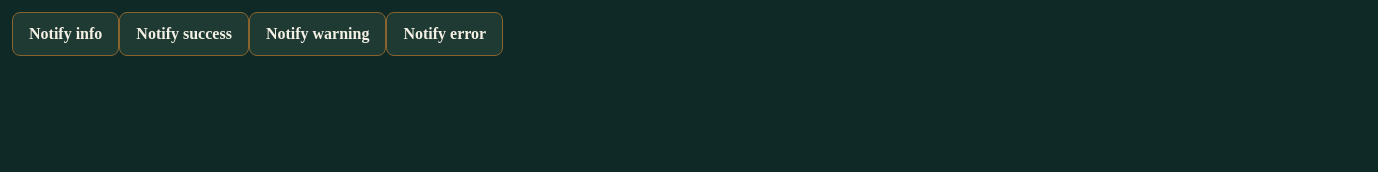
Test: NotificationsProvider › dismisses notifications manually
Step 1. Click the button "Notify error" → (445, 34), box [386,12,503,56]
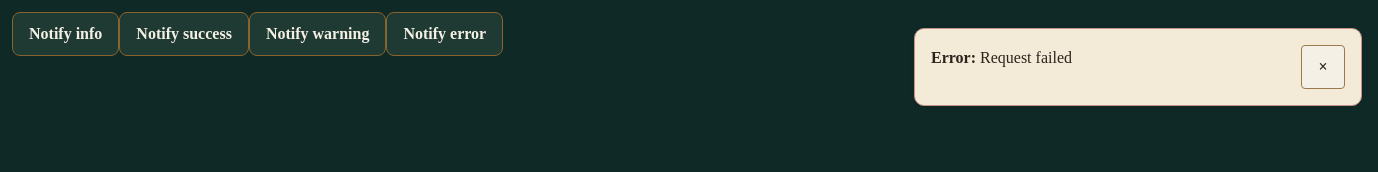
Step 2. Click the button named "Dismiss notification" → (1323, 67), box [1301,45,1345,89]
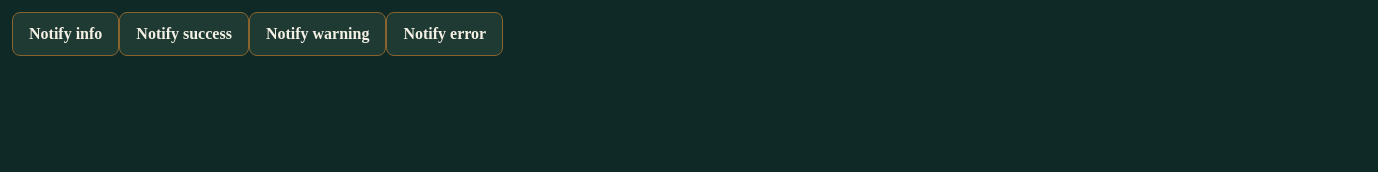
Check: the message "Error:Request failed ×" is gone
